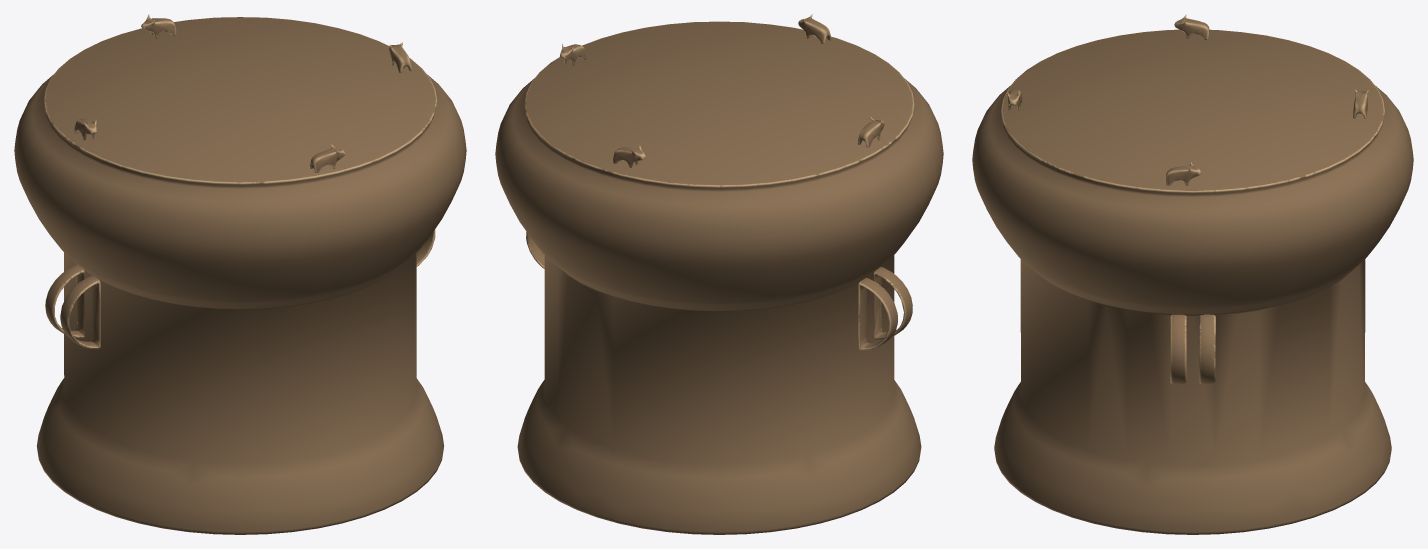
Rendered from trong-dong-hoa-van.glb.
The picture shows the model from 3 angles, left to right: view 1: azimuth 30°, elevation 25°; view 2: azimuth 150°, elevation 25°; view 3: azimuth 270°, elevation 25°; orthographic projection. The views are drawn at different scales.
Visible parts, largest first — view 1: Sphere001_trong dong_0; view 2: Sphere001_trong dong_0; view 3: Sphere001_trong dong_0.
Boxes of the visible parts, left/top/right/bottom form: Sphere001_trong dong_0: left=14, top=14, right=466, bottom=534; Sphere001_trong dong_0: left=495, top=14, right=943, bottom=534; Sphere001_trong dong_0: left=972, top=14, right=1413, bottom=534.
Bounding box in the file's own units: 0.793 × 0.717 × 0.793.
Materials: 1 (1 with a texture image).
